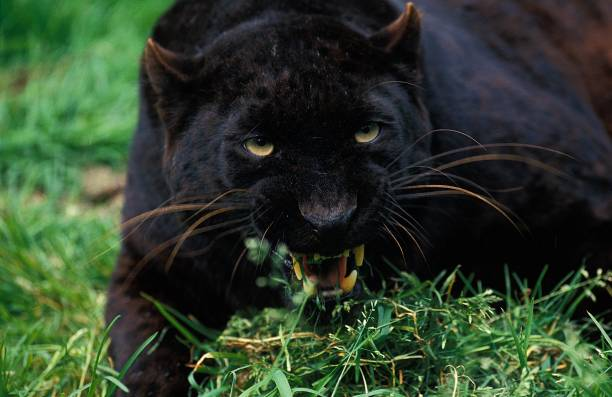panther: (85, 3, 480, 336)
